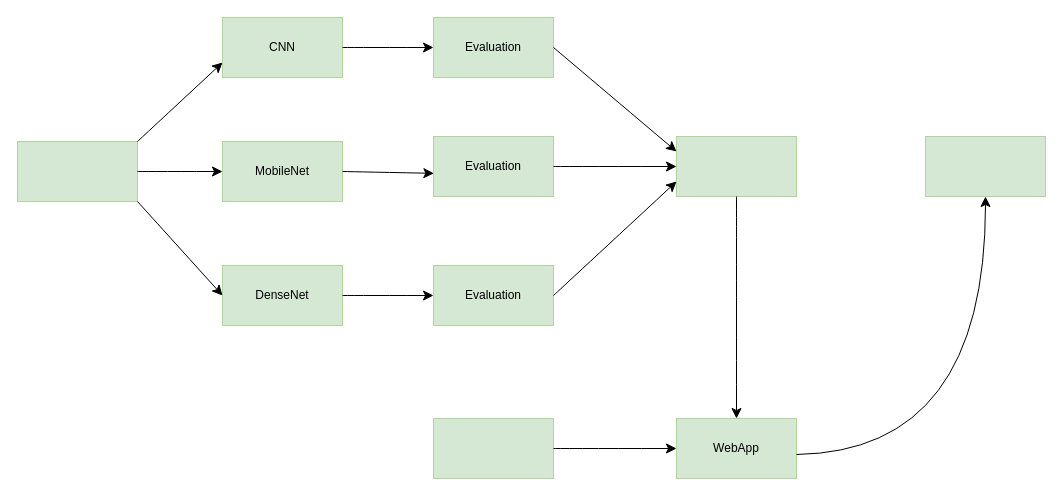
The diagram is 1063 pixels wide and 496 high, and some of its shapes have lost their labels. The centre of each missing label's shape, as x and y in pixels:
"Best Neural Network Evaluation" goes at pixel 736 166.
"Image Processing" goes at pixel 77 171.
"Input Image" goes at pixel 493 448.
"Prediction" goes at pixel 985 166.
